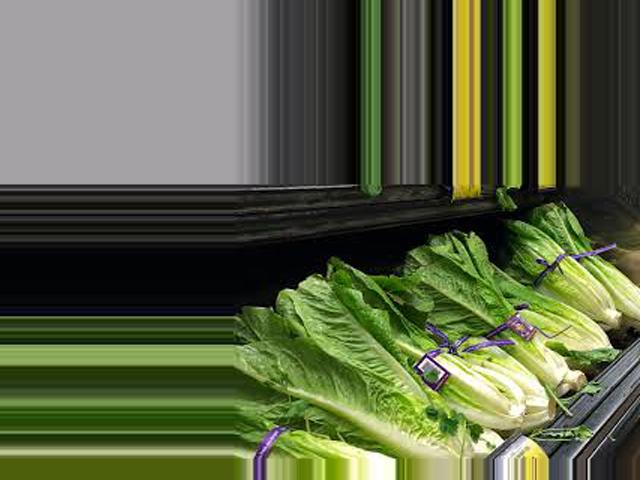lettuce: (238, 285, 468, 448)
